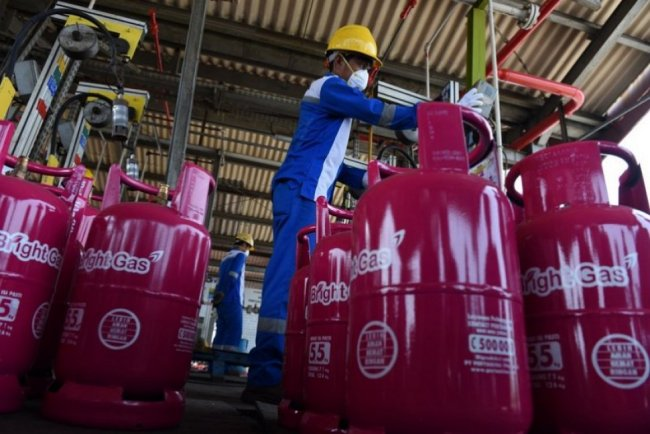bright_gas: (353, 109, 534, 434), (506, 142, 650, 434), (64, 163, 216, 427), (1, 120, 78, 421), (285, 197, 368, 434)
